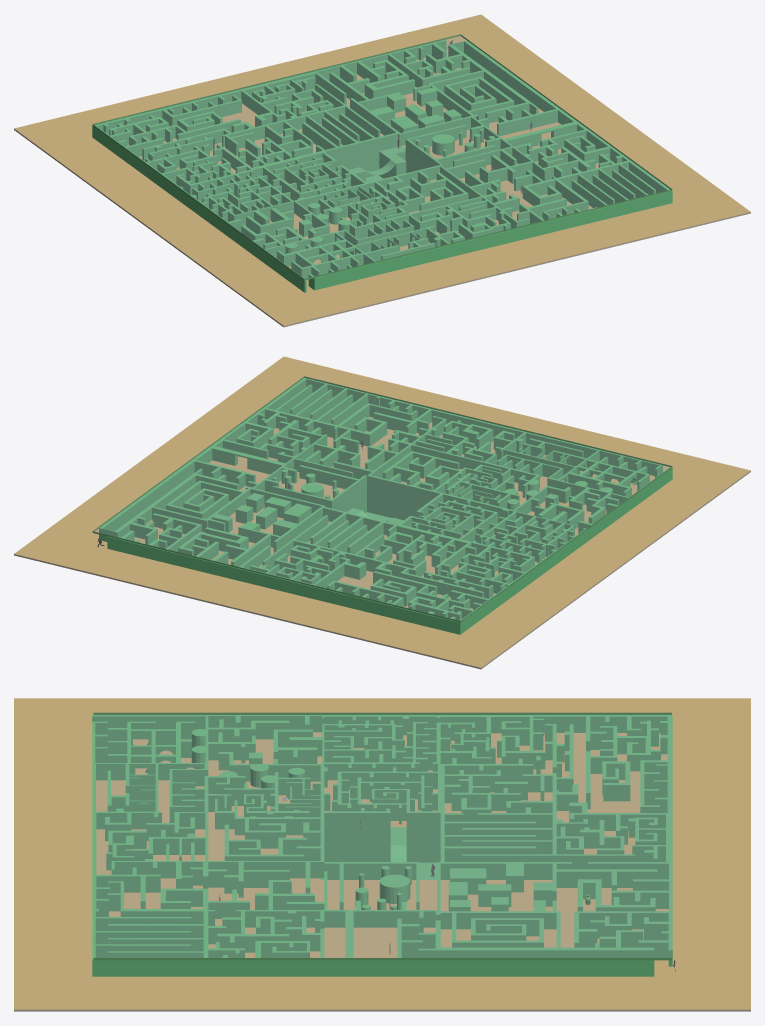
The model's file is maze 1.fbx.
3 views of the same model, one above another, from view 1: azimuth 30°, elevation 25°; view 2: azimuth 150°, elevation 25°; view 3: azimuth 270°, elevation 25° (orthographic). The views are drawn at different scales.
Visible parts, largest first — view 1: 3DSMeshMatrix.021, 3DSMeshMatrix.002, 3DSMeshMatrix.003; view 2: 3DSMeshMatrix.021, 3DSMeshMatrix.002, 3DSMeshMatrix.003; view 3: 3DSMeshMatrix.002, 3DSMeshMatrix.021, 3DSMeshMatrix.003.
Part boxes in pixels (x1,y1,x2,y2): 3DSMeshMatrix.021: (92, 39, 672, 292); 3DSMeshMatrix.002: (92, 34, 672, 280); 3DSMeshMatrix.003: (14, 14, 750, 327); 3DSMeshMatrix.021: (99, 378, 672, 634); 3DSMeshMatrix.002: (92, 376, 672, 622); 3DSMeshMatrix.003: (14, 356, 750, 669); 3DSMeshMatrix.002: (93, 712, 671, 960); 3DSMeshMatrix.021: (92, 715, 672, 976); 3DSMeshMatrix.003: (14, 698, 750, 1011).
Size of the model in its own units: 9423 by 1037 by 9423.
